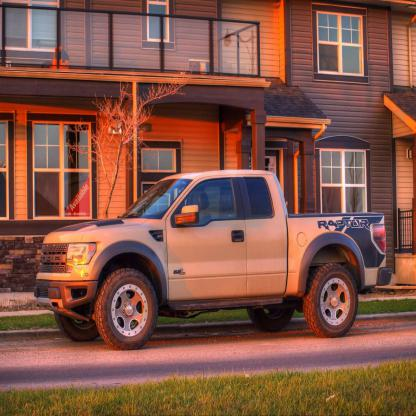Truck: (33, 160, 391, 352)
